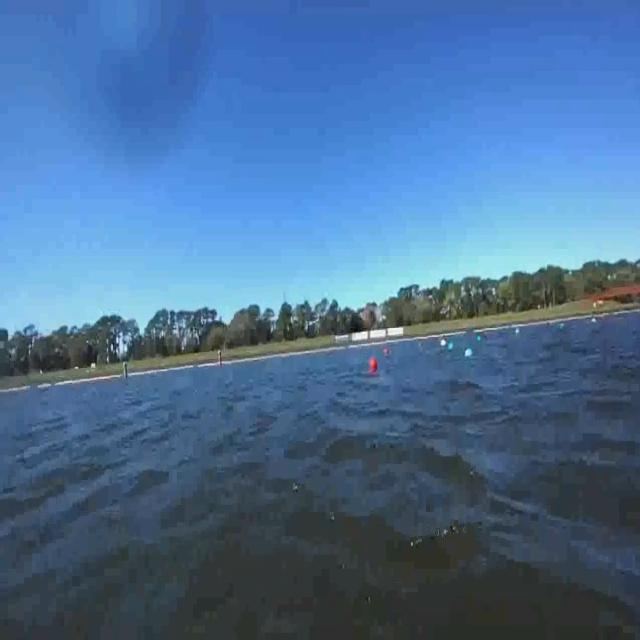red-column-buoy: (368, 357, 378, 376)
